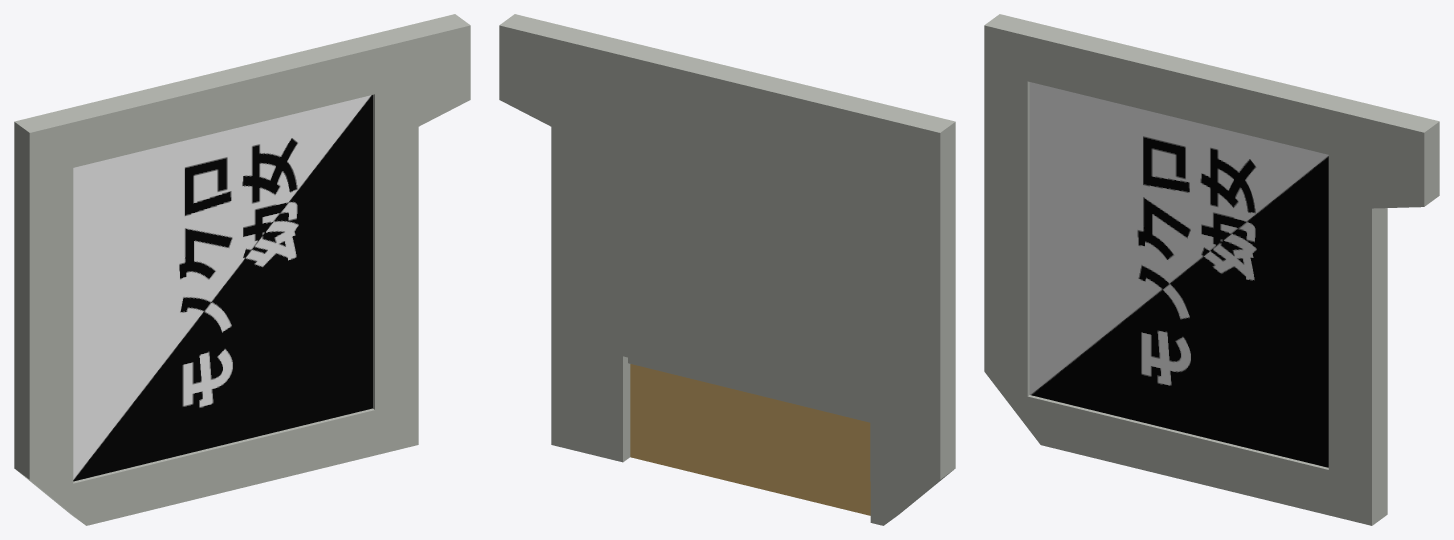
File: soft_mono.fbx
3 views of the same model, side by side, from view 1: azimuth 30°, elevation 25°; view 2: azimuth 150°, elevation 25°; view 3: azimuth 330°, elevation 25° (orthographic).
Parts seen in each view (by area): view 1: image, soft; view 2: soft; view 3: image, soft.
Part boxes in pixels (x1,y1,x2,y2): image: [73, 95, 372, 481]; soft: [14, 14, 470, 525]; soft: [499, 14, 955, 525]; image: [1029, 82, 1328, 467]; soft: [984, 14, 1439, 525].
Size of the model in its own units: 160 by 141 by 9.82.
